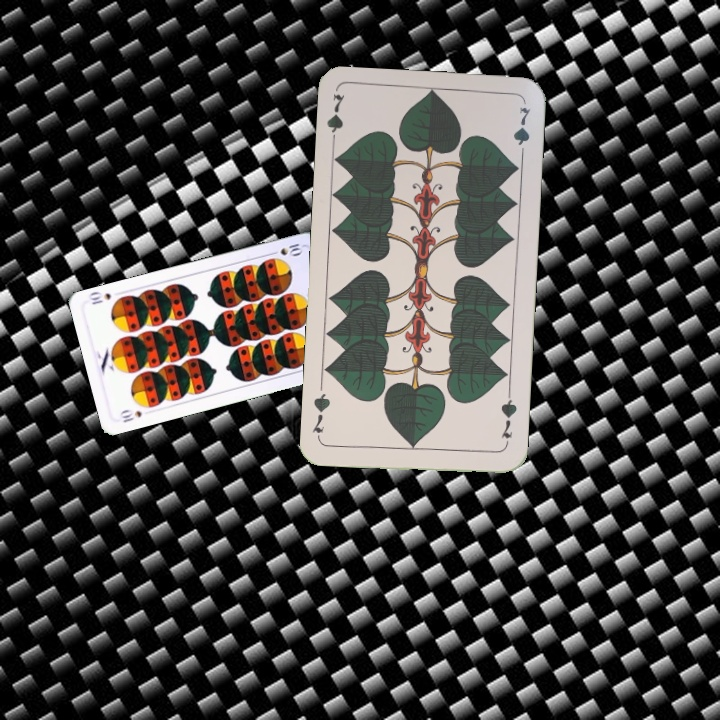G7: (323, 91, 348, 150), (496, 390, 520, 449)
S10: (266, 239, 306, 259), (116, 405, 145, 425)
